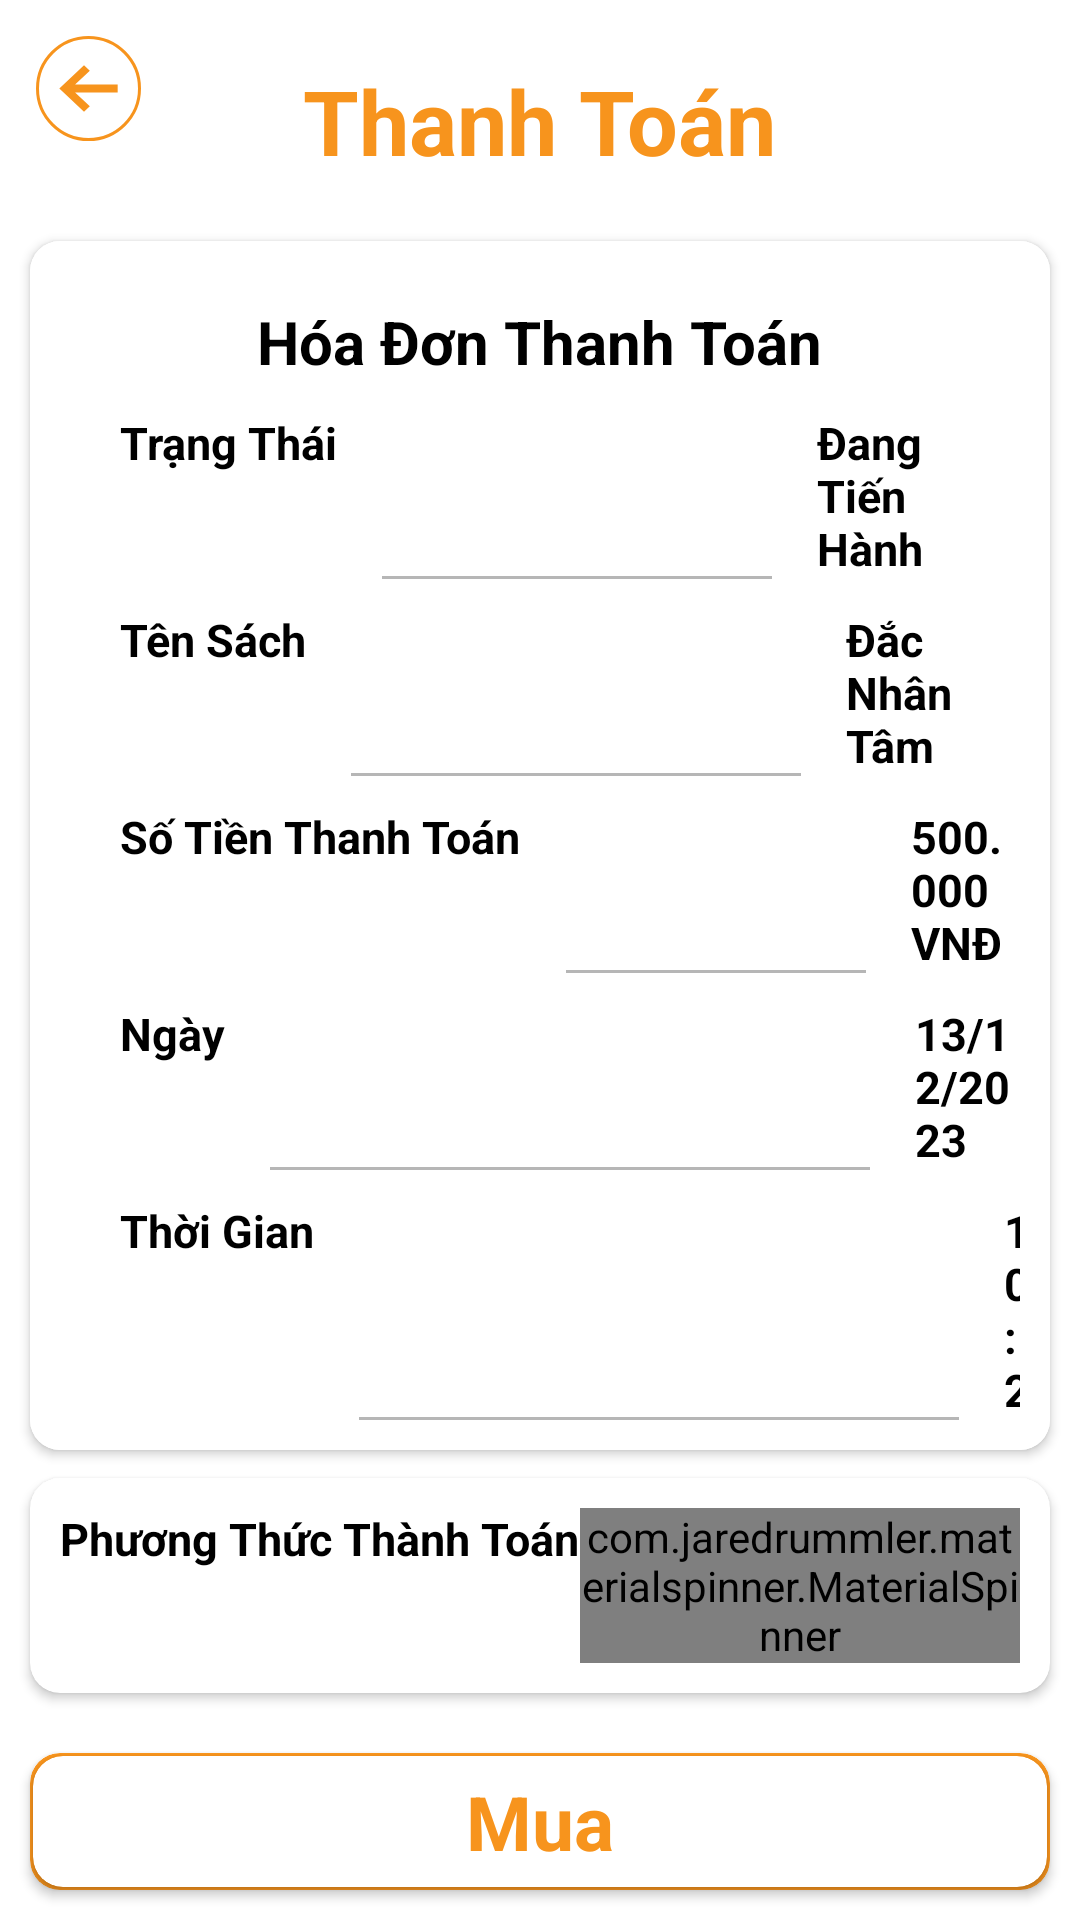

Point at icon controls on the screen. Image size 1080px×1920px, points as (x,y).
back: (88,88)
